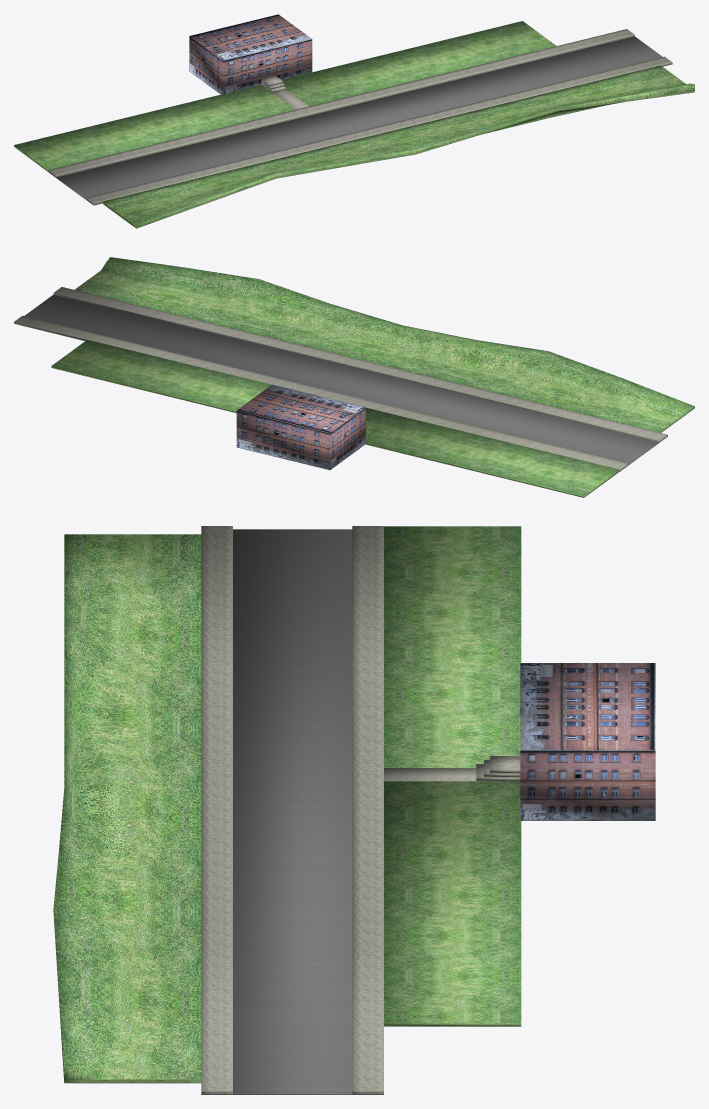
Rendered from schoolFront.dae.
The picture shows the model from 3 angles, top to bottom: view 1: azimuth 30°, elevation 25°; view 2: azimuth 150°, elevation 25°; view 3: azimuth 270°, elevation 25°; orthographic projection. The views are drawn at different scales.
Parts seen in each view (by area): view 1: street, grass02, grass, grass01, schoolOutside, sideWalk, sideWalk02; view 2: grass02, street, grass, schoolOutside, grass01, sideWalk02, sideWalk; view 3: grass02, street, grass01, grass, schoolOutside, sideWalk02, sideWalk, sideWalk01.
Boxes of the visible parts, <box> form: street: <box>56,36,662,199</box>; grass02: <box>102,65,694,228</box>; grass: <box>14,85,295,171</box>; grass01: <box>282,21,556,106</box>; schoolOutside: <box>189,14,312,94</box>; sideWalk: <box>48,29,634,177</box>; sideWalk02: <box>85,56,672,205</box>; grass02: <box>74,257,694,432</box>; street: <box>24,294,659,465</box>; grass: <box>365,407,619,497</box>; schoolOutside: <box>236,384,365,470</box>; grass01: <box>51,339,271,412</box>; sideWalk02: <box>53,287,667,442</box>; sideWalk: <box>14,316,628,471</box>; grass02: <box>53,534,201,1083</box>; street: <box>233,529,352,1094</box>; grass01: <box>384,781,521,1026</box>; grass: <box>384,526,521,767</box>; schoolOutside: <box>520,663,655,820</box>; sideWalk02: <box>201,526,232,1094</box>; sideWalk: <box>352,526,383,1094</box>; sideWalk01: <box>384,768,476,781</box>.
Bounding box in the file's own units: 41.44 × 18.66 × 2.42.
